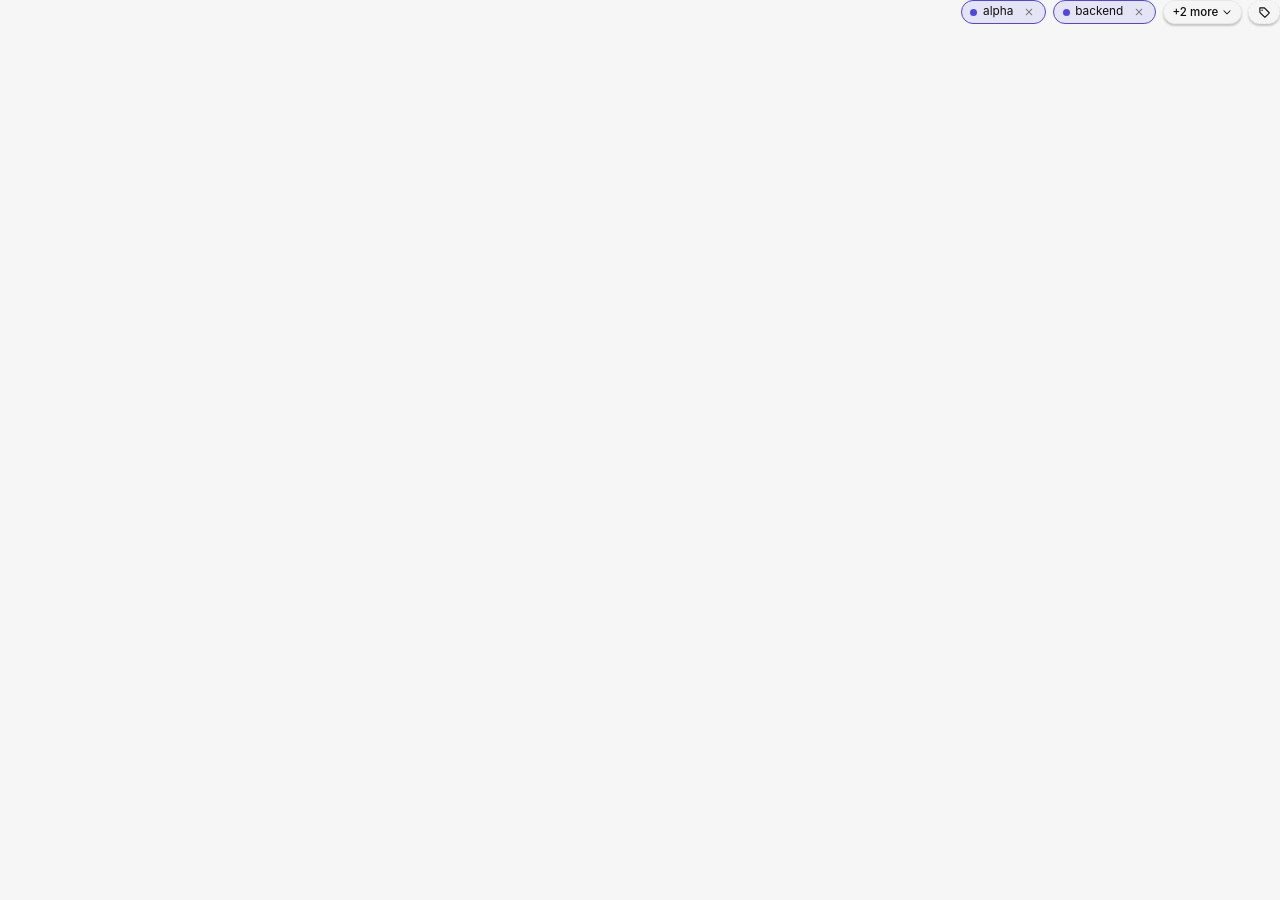
Scenario: RepoCardTags › renders tags in alphabetical order inside the overflow popover
The width and height of the screenshot is (1280, 900).
Click the button "+2 more" at (1202, 12), box 1163,0 -> 1242,24
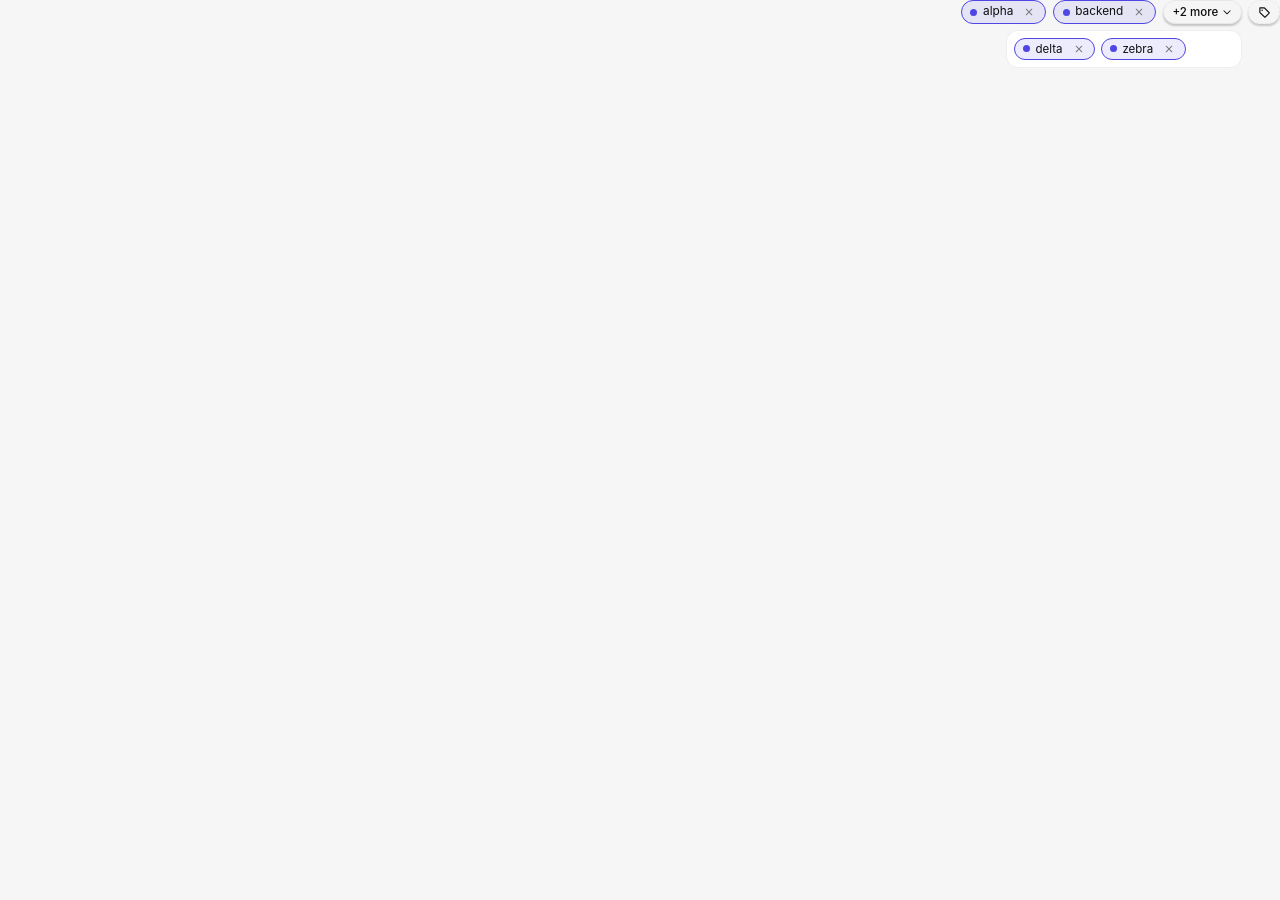
Now the dialog shows "delta", box 1035,42 -> 1062,56
Now the dialog shows "zebra", box 1122,42 -> 1153,56
